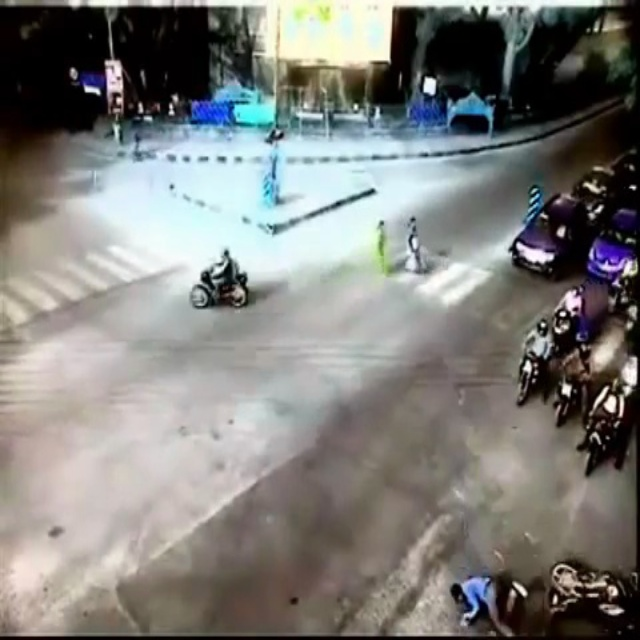acc: (448, 553, 640, 640)
